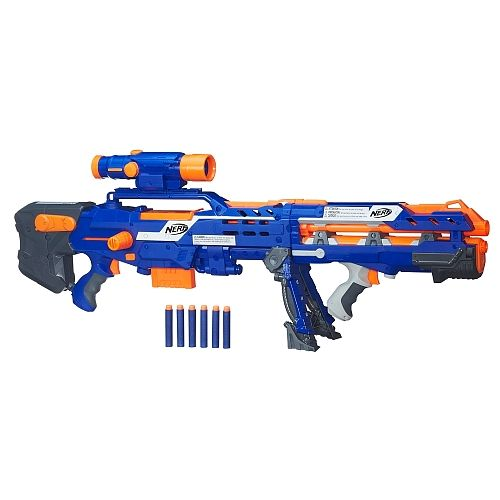Arma Falsa: (11, 147, 500, 353)
